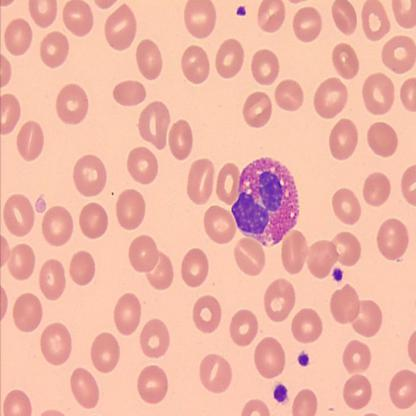Eosinophil: (230, 154, 300, 248)
